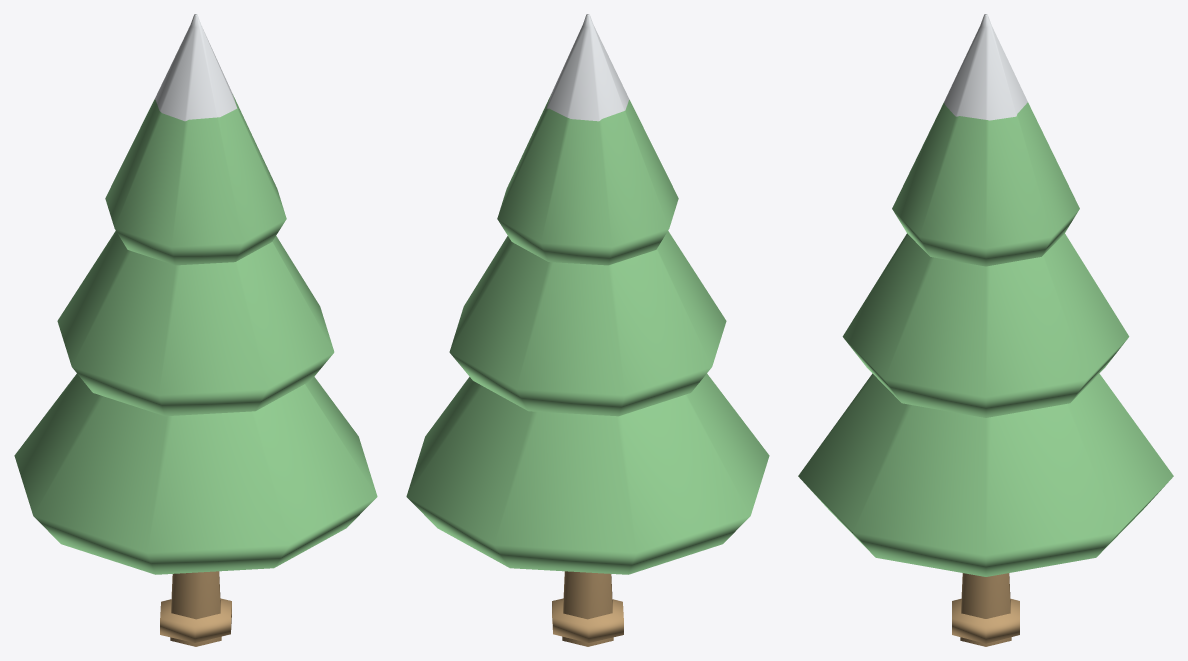
Rendered from tree_pine_winter_low.glb.
The picture shows the model from 3 angles, left to right: view 1: azimuth 30°, elevation 25°; view 2: azimuth 150°, elevation 25°; view 3: azimuth 270°, elevation 25°; orthographic projection.
Bounding box in the file's own units: 2.28 × 4.15 × 2.28.
